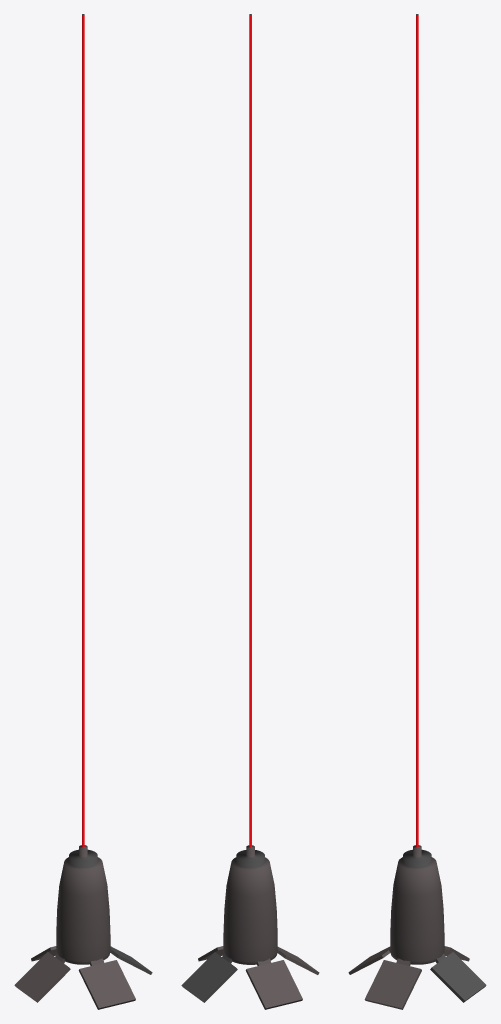
The model's file is spot_fbx.fbx.
3 renders of one model, left to right at view 1: azimuth 30°, elevation 25°; view 2: azimuth 210°, elevation 25°; view 3: azimuth 330°, elevation 25°, orthographic.
Visible parts, largest first — view 1: Cylinder; view 2: Cylinder; view 3: Cylinder.
Boxes of the visible parts, x1,y1,x2,y2 form: Cylinder: (14,14,152,1009); Cylinder: (181,14,319,1009); Cylinder: (348,14,486,1009).
Bounding box in the file's own units: 496 × 3923 × 500.
